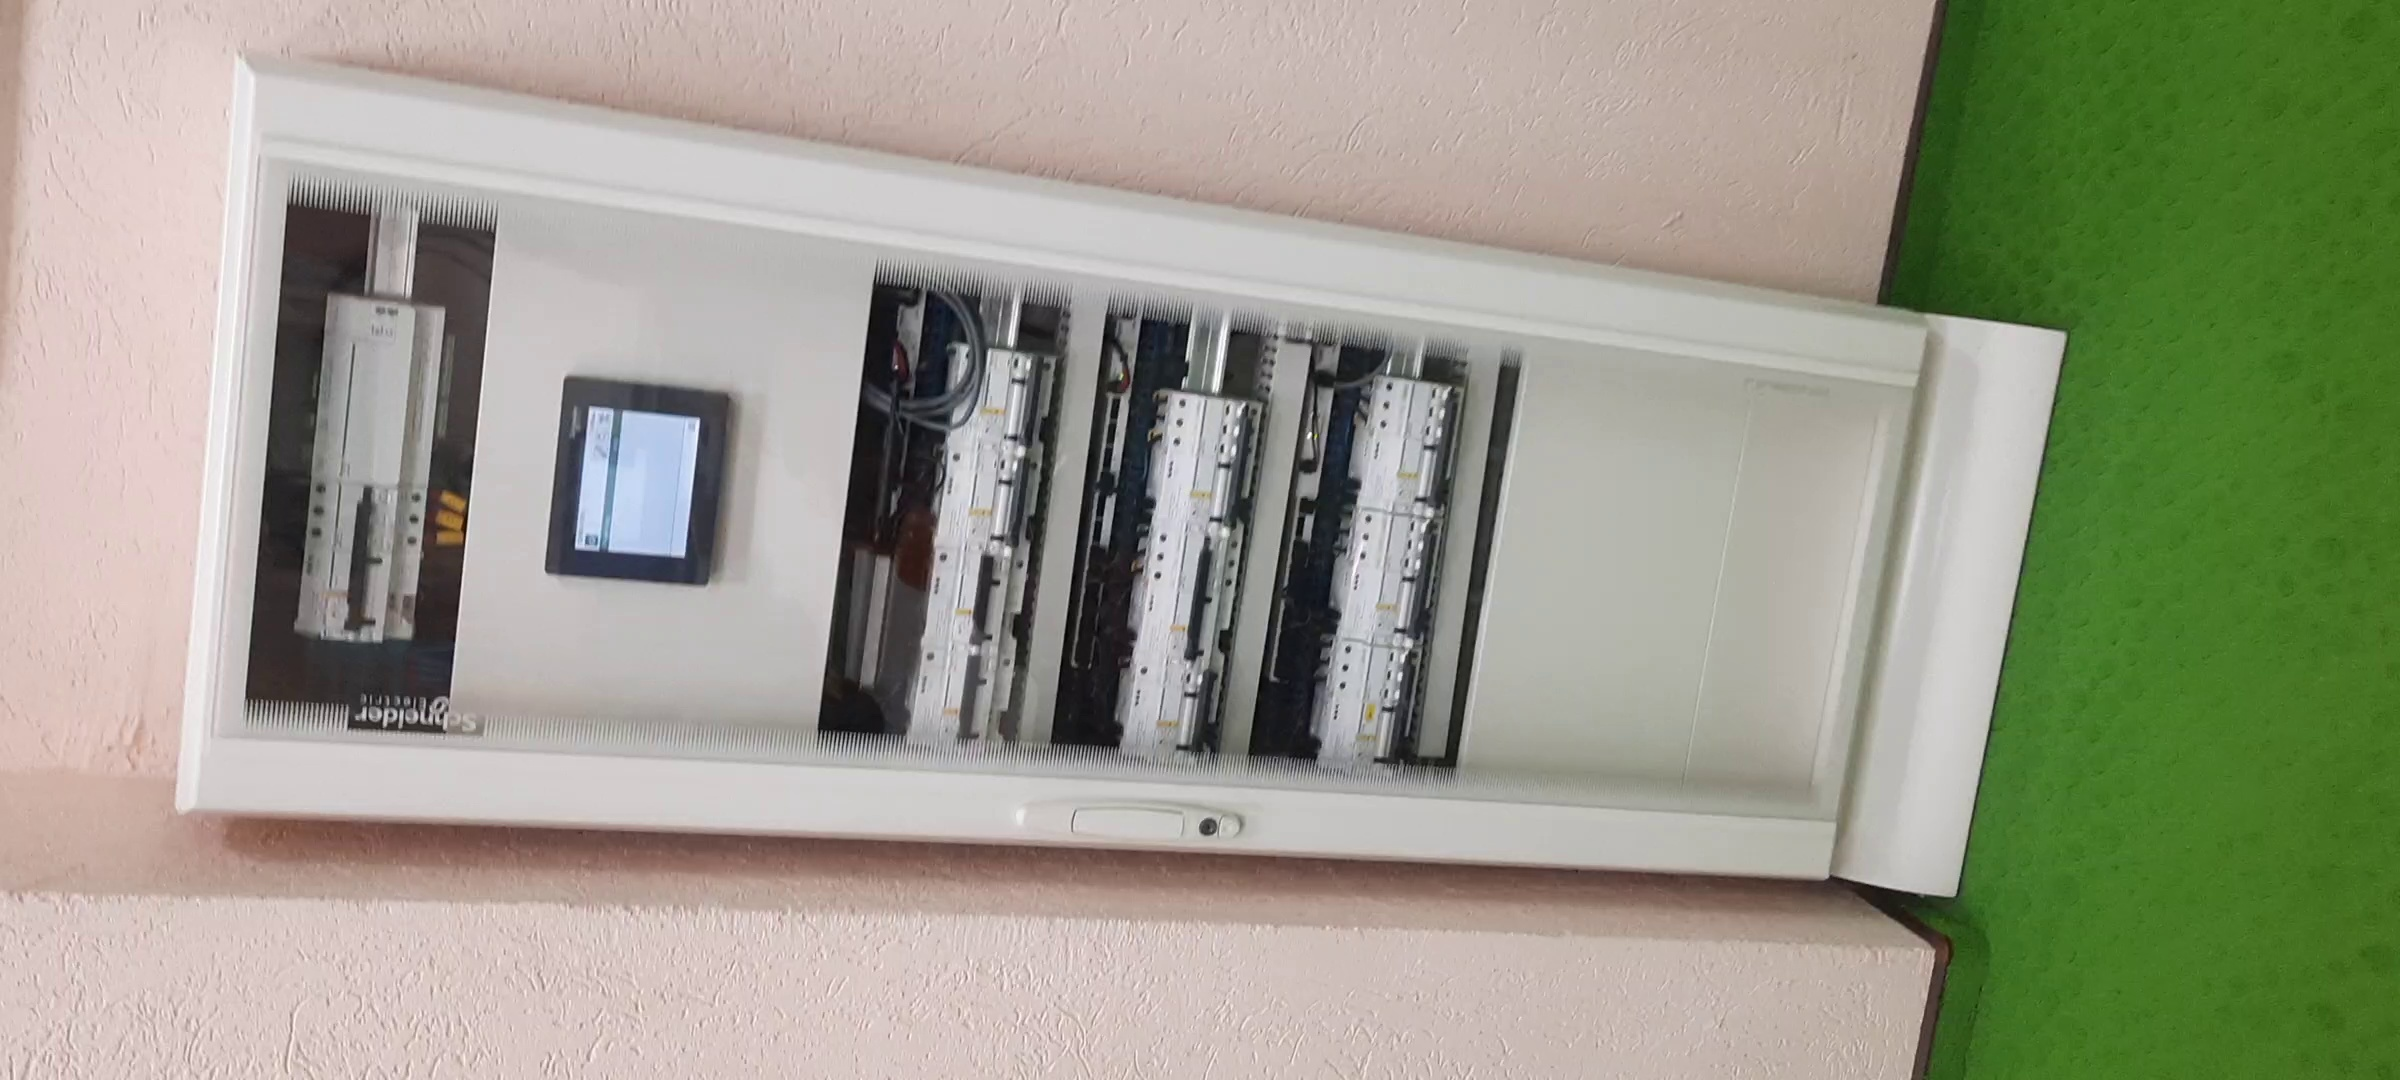smart_stand: (204, 67, 2042, 909)
